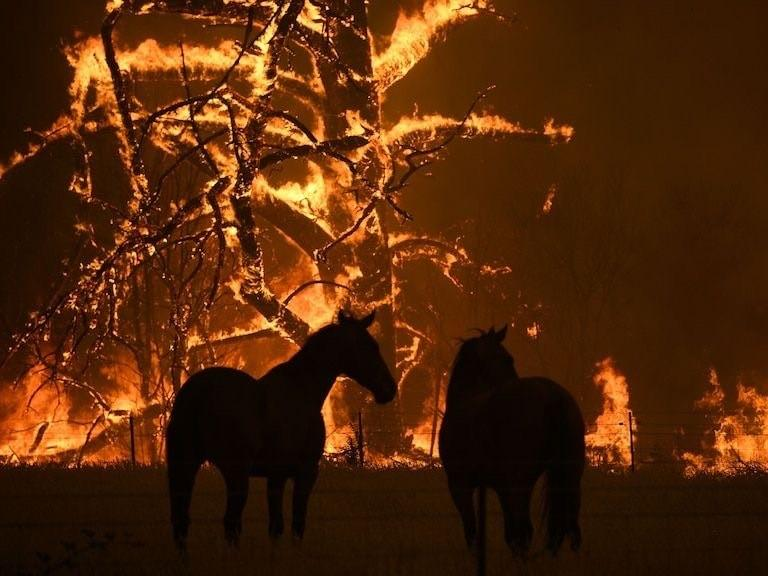fire: (0, 0, 415, 342), (678, 357, 768, 539), (0, 365, 148, 470), (328, 373, 448, 483), (580, 353, 652, 478)
